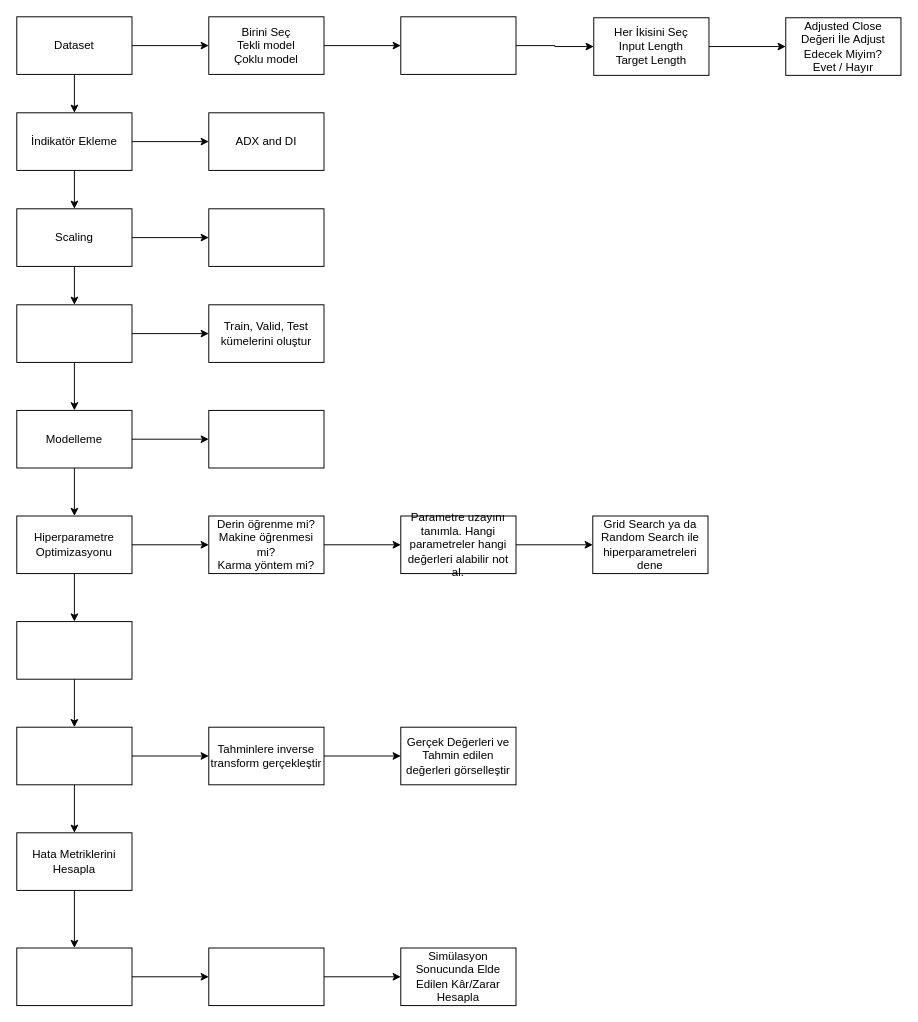
Some shapes in this 918 by 1022 pixel diagram are drawn without their labels. The centre of each missing label's shape, as x and y in pixels:
"Benchmark belirle" goes at pixel 266 976.
"Her İkisini Seç Period Interval" goes at pixel 458 45.
"LSTM Random Forest KNN" goes at pixel 266 438.
"Min Max Scaling yap" goes at pixel 266 237.
"Model Eğitimini Yap" goes at pixel 74 650.
"Modelden validation ve test kümesinde tahminleri al" goes at pixel 74 755.
"Trade Simülasyonu Oluştur" goes at pixel 74 976.
"Zaman Serisi Halinde Dataset Oluştur (Target ve İnput Length kullan)" goes at pixel 74 333.
